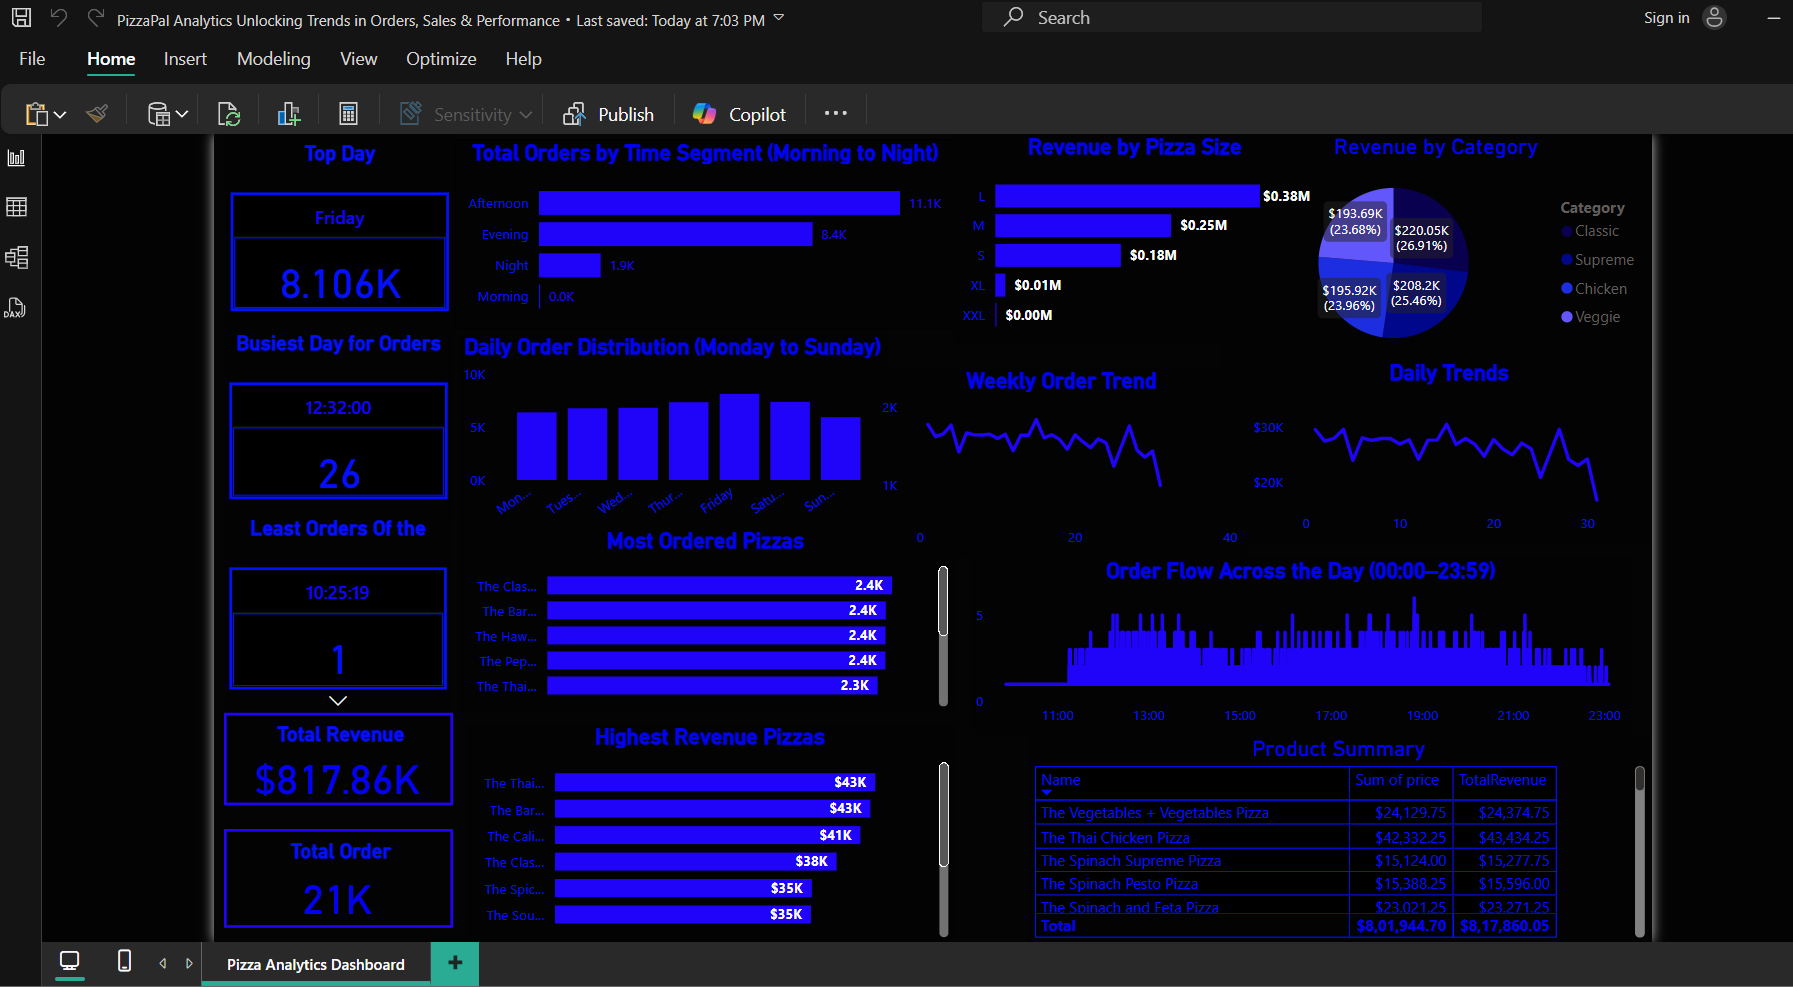

The dashboard page shown, as its layout file describes it:
{"tool":"powerbi","page":{"name":"Pizza Analytics Dashboard","canvas":[1280,720],"ordinal":0},"visuals":[{"type":"cardVisual","title":"Busiest Day for Orders","fields":{"Rows":["MasterPizzaOrders.Time"],"Data":["CountNonNull(MasterPizzaOrders.order_id)"]},"box":[8.6,169.3,204.9,176.7],"z":0},{"type":"cardVisual","title":"Least Orders Of the ","fields":{"Rows":["MasterPizzaOrders.Time"],"Data":["CountNonNull(MasterPizzaOrders.order_id)"]},"box":[8.6,333.7,203.7,181.6],"z":1000},{"type":"cardVisual","title":"Top Day","fields":{"Rows":["DateTable.Weekday"],"Data":["CountNonNull(MasterPizzaOrders.order_id)"]},"box":[9.8,0,204.9,177.9],"z":2000},{"type":"card","title":"Total Revenue","fields":{"Values":["MasterPizzaOrders.TotalRevenue"]},"box":[8.6,515.3,203.7,82.2],"z":3000},{"type":"card","title":"Total Order","fields":{"Values":["MasterPizzaOrders.TotalOrder"]},"box":[8.6,618.4,203.7,88.3],"z":4000},{"type":"barChart","title":"Total Orders by Time Segment (Morning to Night)","fields":{"Category":["MasterPizzaOrders.TimeSegment"],"Y":["Count(MasterPizzaOrders.order_id)"]},"box":[214.7,4.9,444.2,169.3],"z":5000},{"type":"clusteredColumnChart","title":"Daily Order Distribution (Monday to Sunday)","fields":{"Category":["DateTable.Weekday"],"Y":["CountNonNull(MasterPizzaOrders.order_id)"]},"box":[217.2,177.9,382.8,174.2],"z":6000},{"type":"pieChart","title":"Revenue by Category","fields":{"Category":["MasterPizzaOrders.Category"],"Y":["MasterPizzaOrders.TotalRevenue"]},"box":[896.9,0,382.8,208.6],"z":7000},{"type":"barChart","title":"Revenue by Pizza Size","fields":{"Category":["MasterPizzaOrders.size"],"Y":["MasterPizzaOrders.TotalRevenue"]},"box":[658.9,0,322.7,187.7],"z":8000},{"type":"barChart","title":"Most Ordered Pizzas","fields":{"Category":["MasterPizzaOrders.Name"],"Y":["CountNonNull(MasterPizzaOrders.quantity)"]},"box":[217.2,350.9,441.7,164.4],"z":9000},{"type":"barChart","title":"Highest Revenue Pizzas","fields":{"Category":["MasterPizzaOrders.Name"],"Y":["MasterPizzaOrders.TotalRevenue"]},"box":[224.5,525.2,434.4,195.1],"z":10000},{"type":"lineChart","title":"Daily Trends","fields":{"Category":["DateTable.Date.Variation.Date Hierarchy.Day"],"Y":["MasterPizzaOrders.TotalRevenue"]},"box":[920.3,201.2,359.5,163.2],"z":11000},{"type":"lineChart","title":"Order Flow Across the Day (00:00–23:59)","fields":{"Y":["Count(MasterPizzaOrders.order_id)"],"Category":["MasterPizzaOrders.Time"]},"box":[673.6,377.9,589,158.3],"z":12000},{"type":"lineChart","title":"Weekly Order Trend","fields":{"Category":["DateTable.Date.Variation.Date Hierarchy.Day"],"Y":["CountNonNull(MasterPizzaOrders.order_id)"]},"box":[590.2,208.6,330.1,169.3],"z":13000},{"type":"tableEx","title":"Product Summary","fields":{"Values":["MasterPizzaOrders.Name","Sum(MasterPizzaOrders.price)","MasterPizzaOrders.TotalRevenue"]},"box":[725.2,536.2,554.6,184.1],"z":14000}]}

Visuals, with their boxes on the page's 1280x720 design canvas (x1, y1, x2, y2). These are canvas units, not pixel positions in the 1793x987 screenshot, which may show the page scaled, cropped or inside an application window:
"Busiest Day for Orders" cardVisual: 9,169,214,346
"Least Orders Of the " cardVisual: 9,334,212,515
"Top Day" cardVisual: 10,0,215,178
"Total Revenue" card: 9,515,212,598
"Total Order" card: 9,618,212,707
"Total Orders by Time Segment (Morning to Night)" barChart: 215,5,659,174
"Daily Order Distribution (Monday to Sunday)" clusteredColumnChart: 217,178,600,352
"Revenue by Category" pieChart: 897,0,1280,209
"Revenue by Pizza Size" barChart: 659,0,982,188
"Most Ordered Pizzas" barChart: 217,351,659,515
"Highest Revenue Pizzas" barChart: 224,525,659,720
"Daily Trends" lineChart: 920,201,1280,364
"Order Flow Across the Day (00:00–23:59)" lineChart: 674,378,1263,536
"Weekly Order Trend" lineChart: 590,209,920,378
"Product Summary" tableEx: 725,536,1280,720
